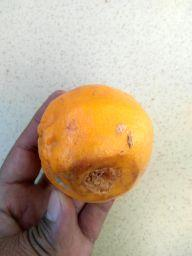Unripe: (38, 84, 152, 204)
